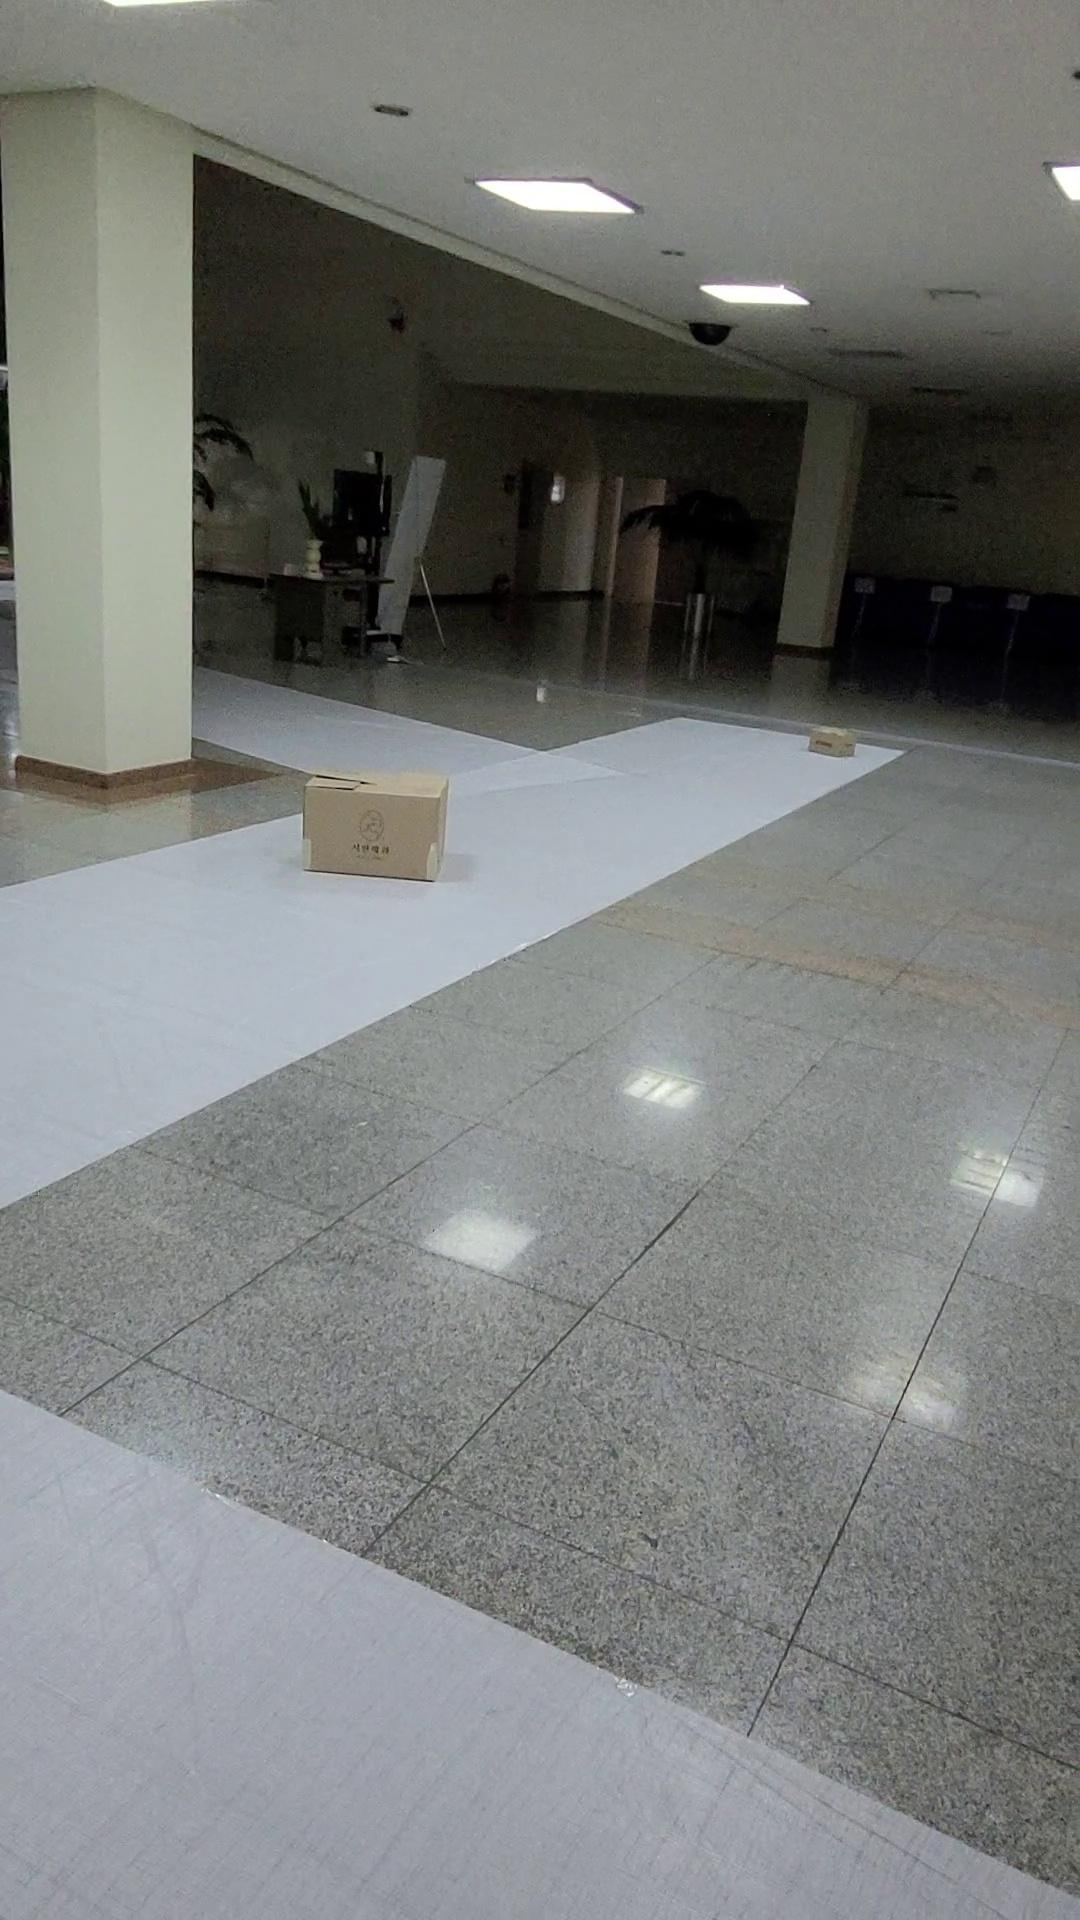Box: (284, 765, 472, 905), (786, 717, 872, 773)
